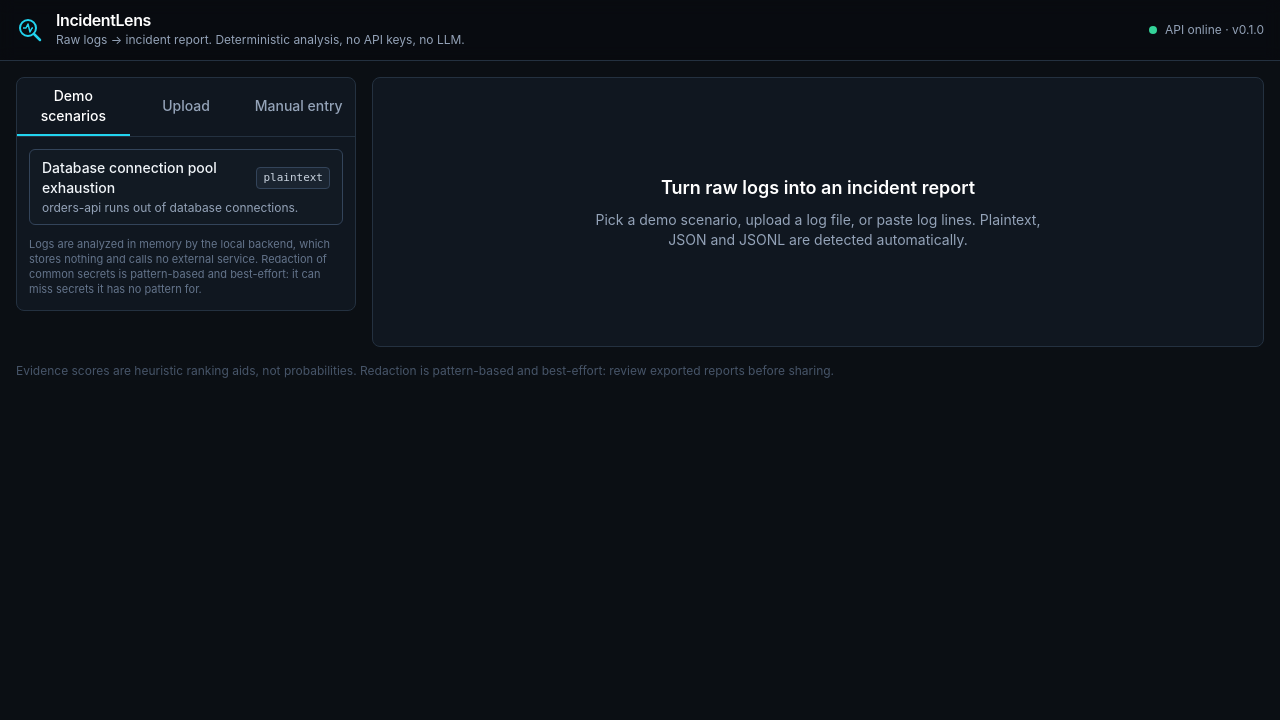
it: App › surfaces API errors from manual analysis
Click the tab "Manual entry". click: click(299, 107)
box: [242,78,355,136]
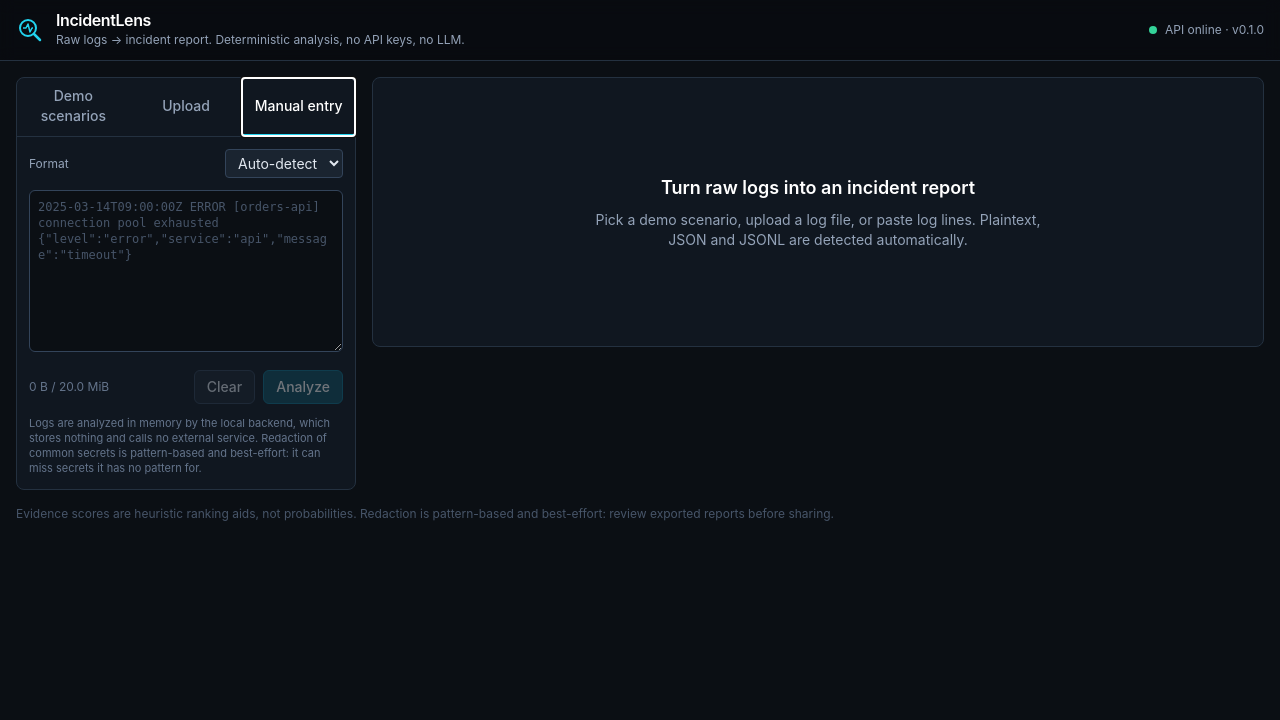
Type "something" into the text box named "Log content". click: (186, 271)
box: [29,190,343,352]
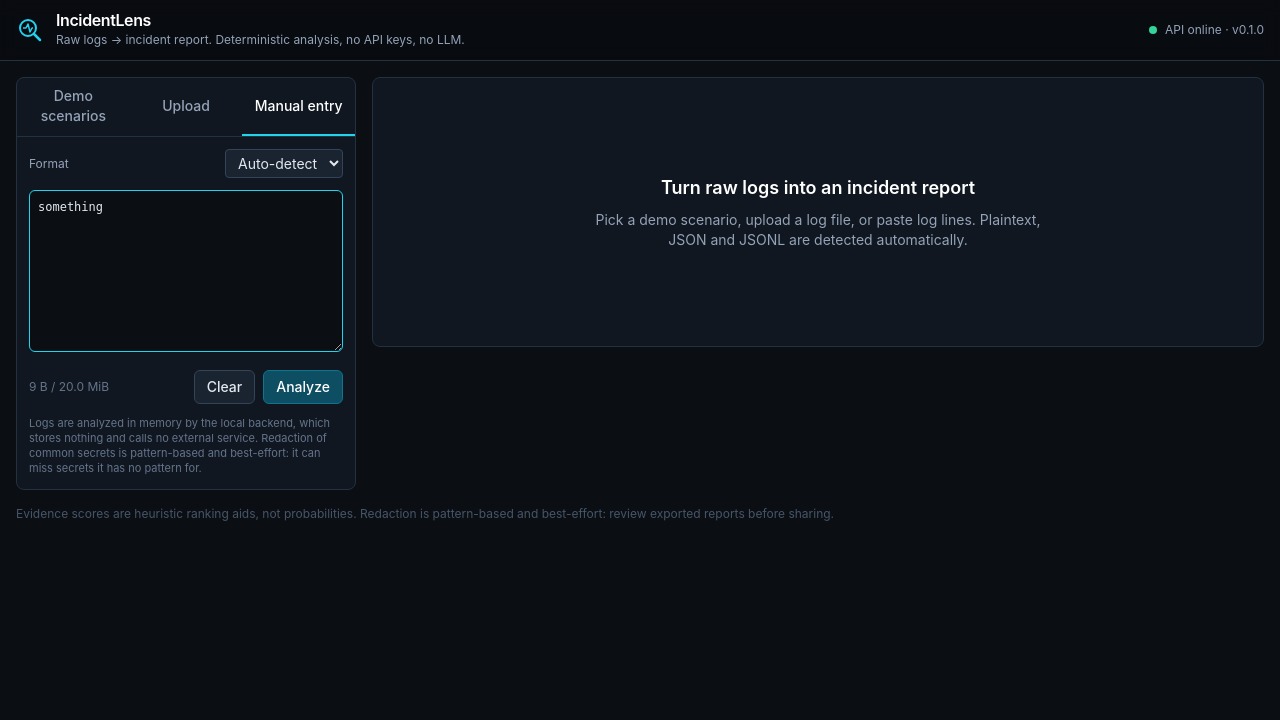
Click the button "Analyze". click: click(303, 387)
box: [263,370,343,404]
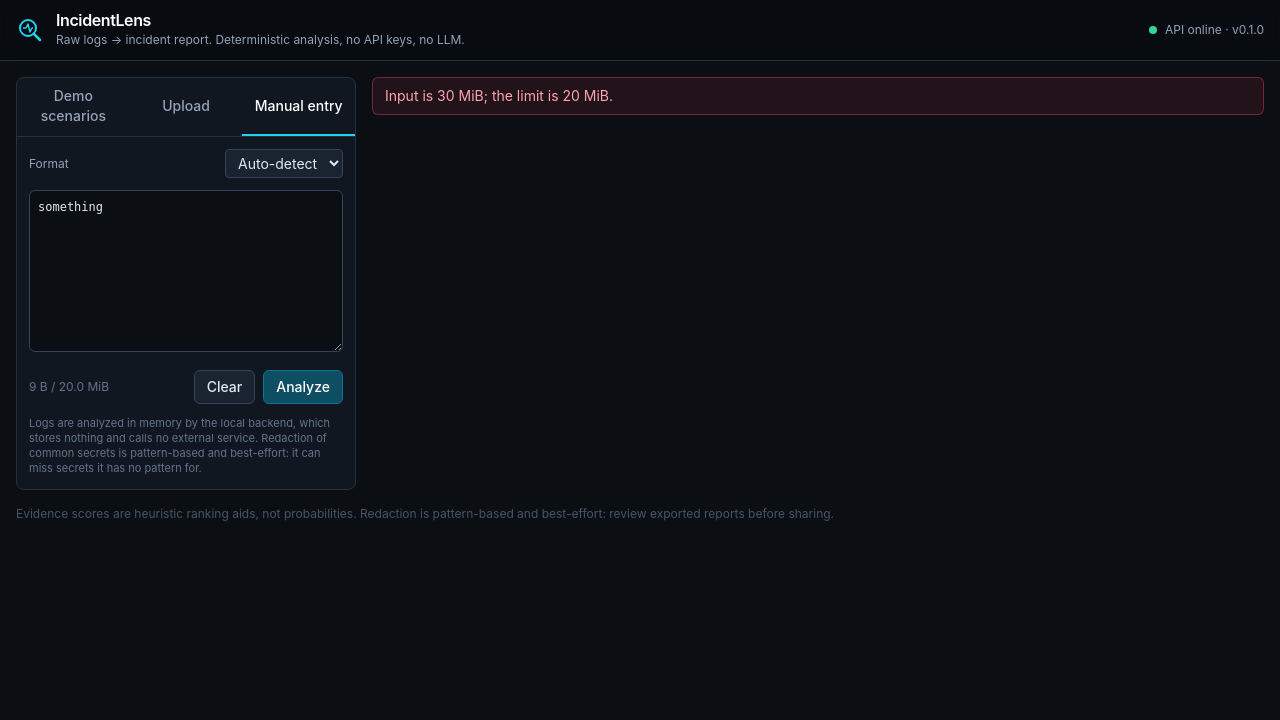
Expected: the text "Input is 30 MiB; the limit is 20 MiB." is shown, [372,77,1264,115]
